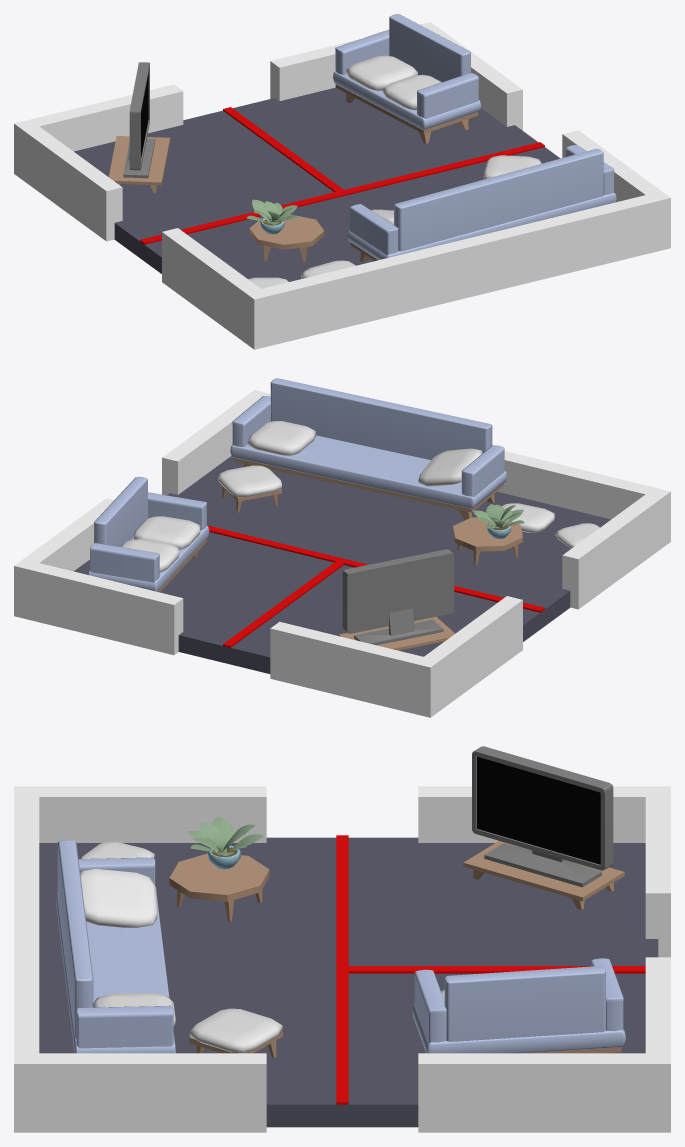
The model's file is T_Salon_Classique.fbx.
3 renders of one model, top to bottom at view 1: azimuth 30°, elevation 25°; view 2: azimuth 150°, elevation 25°; view 3: azimuth 270°, elevation 25°, orthographic. The views are drawn at different scales.
Parts seen in each view (by area): view 1: T_Salon_Classique; view 2: T_Salon_Classique; view 3: T_Salon_Classique.
Part boxes in pixels (bbox=[...]): T_Salon_Classique: bbox=[14, 14, 670, 349]; T_Salon_Classique: bbox=[14, 378, 670, 717]; T_Salon_Classique: bbox=[14, 746, 670, 1132].
Bounding box in the file's own units: 26 × 6.13 × 26.
